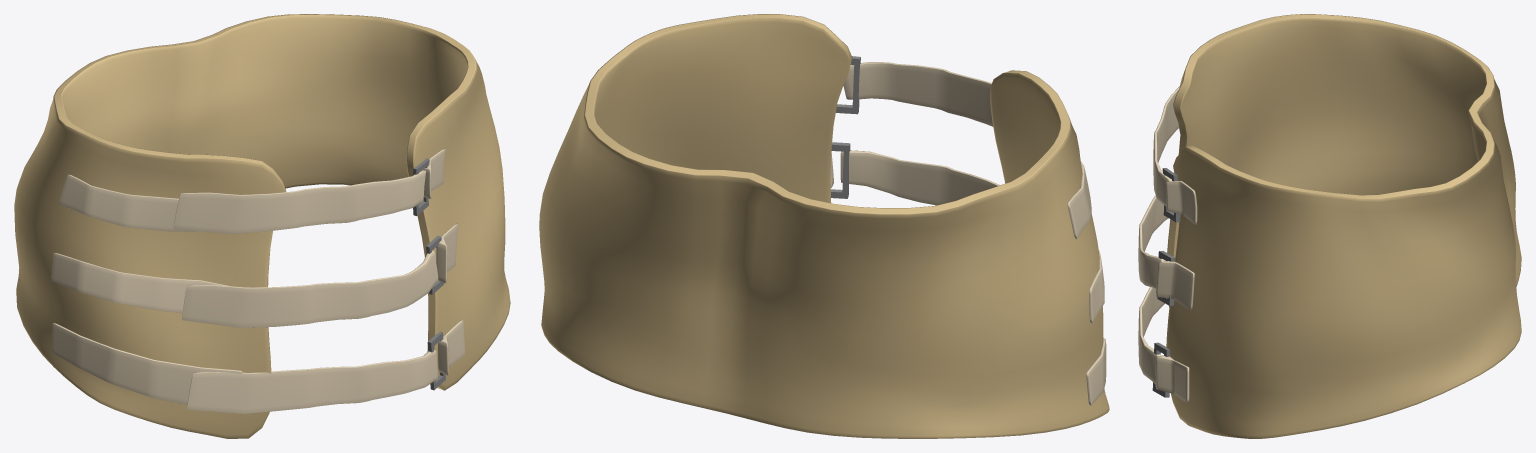
The model's file is binder.fbx.
3 renders of one model, left to right at view 1: azimuth 30°, elevation 25°; view 2: azimuth 150°, elevation 25°; view 3: azimuth 270°, elevation 25°, orthographic. The views are drawn at different scales.
Parts seen in each view (by area): view 1: polySurface13, polySurface5, polySurface6, polySurface4, polySurface12, polySurface11, polySurface10, polySurface9, polySurface8, polySurface7; view 2: polySurface13, polySurface4, polySurface5, polySurface10, polySurface12, polySurface11, polySurface2, polySurface1; view 3: polySurface13, polySurface5, polySurface8, polySurface4, polySurface6, polySurface9, polySurface7.
Boxes of the visible parts, left/top/right/bottom form: polySurface13: left=14, top=14, right=510, bottom=438; polySurface5: left=182, top=250, right=438, bottom=327; polySurface6: left=187, top=350, right=437, bottom=413; polySurface4: left=173, top=170, right=425, bottom=233; polySurface12: left=51, top=323, right=242, bottom=404; polySurface11: left=51, top=252, right=229, bottom=313; polySurface10: left=59, top=174, right=196, bottom=231; polySurface9: left=438, top=320, right=464, bottom=375; polySurface8: left=436, top=223, right=458, bottom=283; polySurface7: left=423, top=148, right=445, bottom=198; polySurface13: left=539, top=14, right=1109, bottom=438; polySurface4: left=843, top=62, right=993, bottom=126; polySurface5: left=840, top=150, right=999, bottom=205; polySurface10: left=1067, top=162, right=1091, bottom=239; polySurface12: left=1086, top=337, right=1106, bottom=405; polySurface11: left=1089, top=250, right=1104, bottom=323; polySurface2: left=830, top=142, right=850, bottom=198; polySurface1: left=836, top=56, right=860, bottom=114; polySurface13: left=1166, top=14, right=1521, bottom=438; polySurface5: left=1138, top=195, right=1168, bottom=288; polySurface8: left=1156, top=261, right=1194, bottom=310; polySurface4: left=1153, top=86, right=1179, bottom=206; polySurface6: left=1138, top=287, right=1164, bottom=383; polySurface9: left=1155, top=355, right=1189, bottom=403; polySurface7: left=1166, top=181, right=1197, bottom=225.
Bounding box in the file's own units: 8.84 × 5.25 × 6.72.
